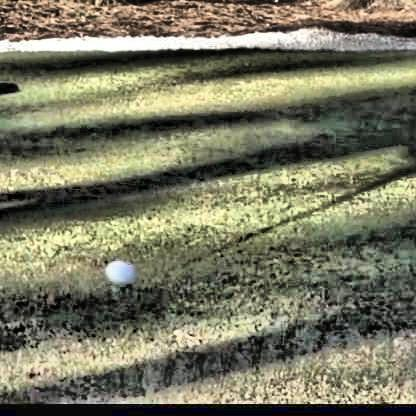golfball: (98, 257, 130, 282)
